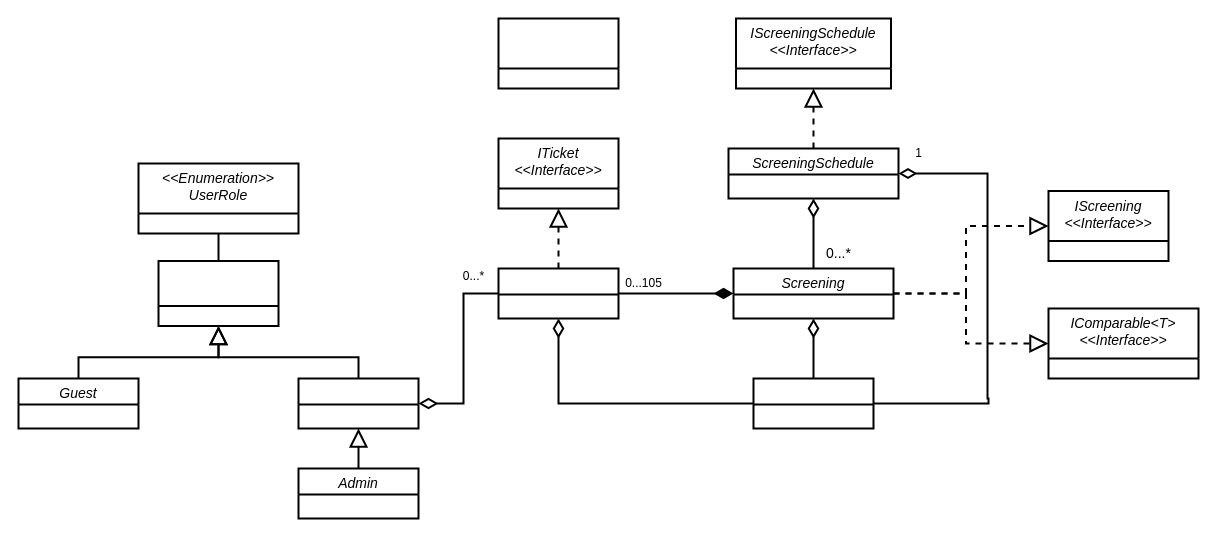
The diagram is 1216 pixels wide and 536 high, and some of its shapes have lost their labels. The shapes that lost their labels are listed below. From the top down, each one's centre as x and y in pixels, then its label:
At pixel 558 53: "TicketHelper Static class".
At pixel 218 293: "User Abstract class".
At pixel 558 293: "Ticket".
At pixel 358 403: "RegisteredUser".
At pixel 813 403: "Film".
